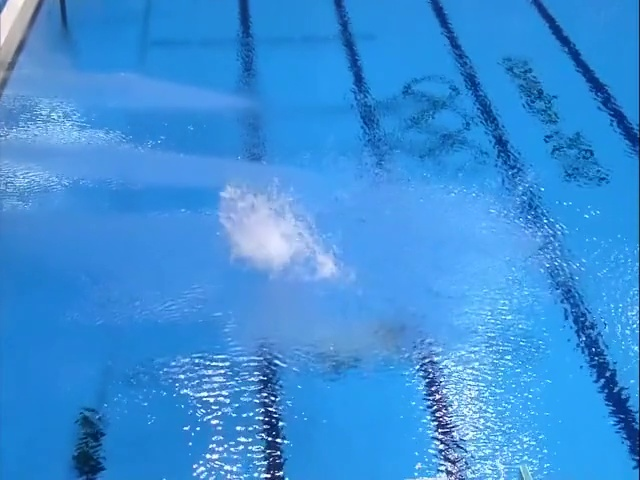splash: (217, 184, 341, 280)
